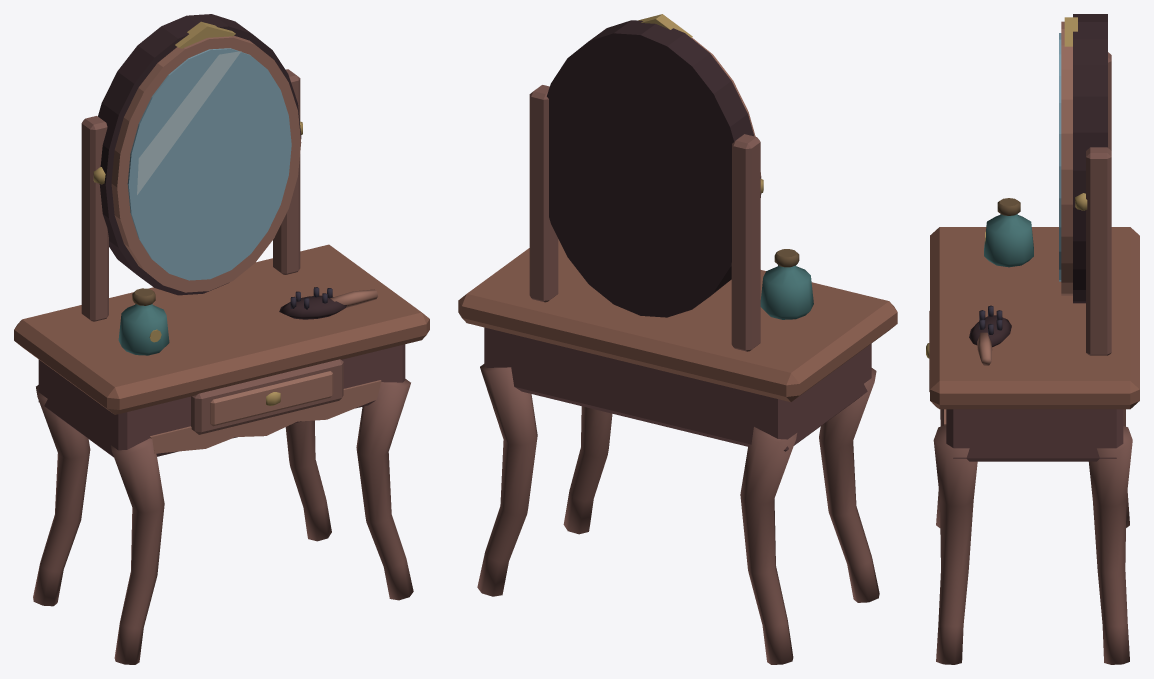
Rendered from vanity.glb.
3 views of the same model, side by side, from view 1: azimuth 30°, elevation 25°; view 2: azimuth 150°, elevation 25°; view 3: azimuth 270°, elevation 25° (orthographic). The views are drawn at different scales.
Visible parts, largest first — view 1: vanity; view 2: vanity; view 3: vanity.
Part boxes in pixels (x1,y1,x2,y2): vanity: [14, 14, 429, 664]; vanity: [458, 14, 897, 664]; vanity: [926, 14, 1139, 664].
Size of the model in its own units: 0.888 by 1.48 by 0.4951.
